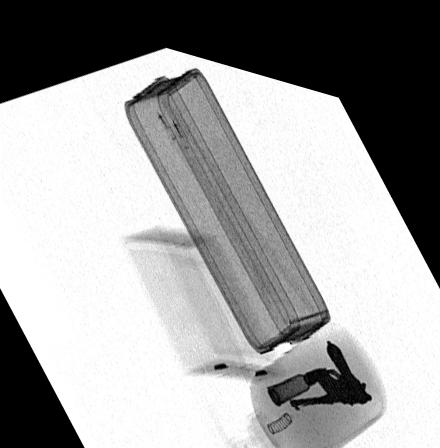Bullet: (265, 348, 337, 391)
Gun: (288, 320, 370, 389)
